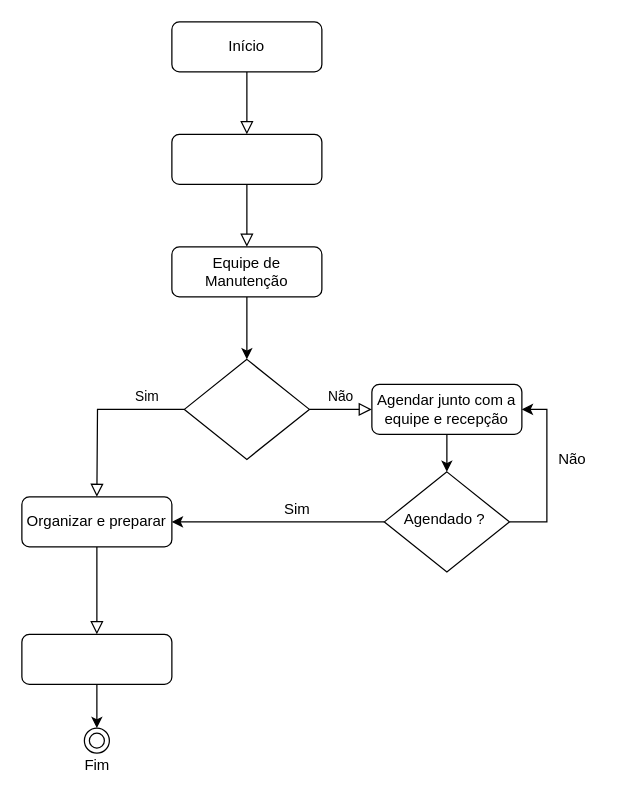
Some shapes in this 619 by 800 pixel diagram are drawn without their labels. Here are the shapes that lost their labels. From the top down, the centre of each, then its label:
pixel 246 158: Procedimentos de Mudanças e instalação
pixel 246 408: Dia marcado ?
pixel 96 658: Fazer relatório de supervisão
